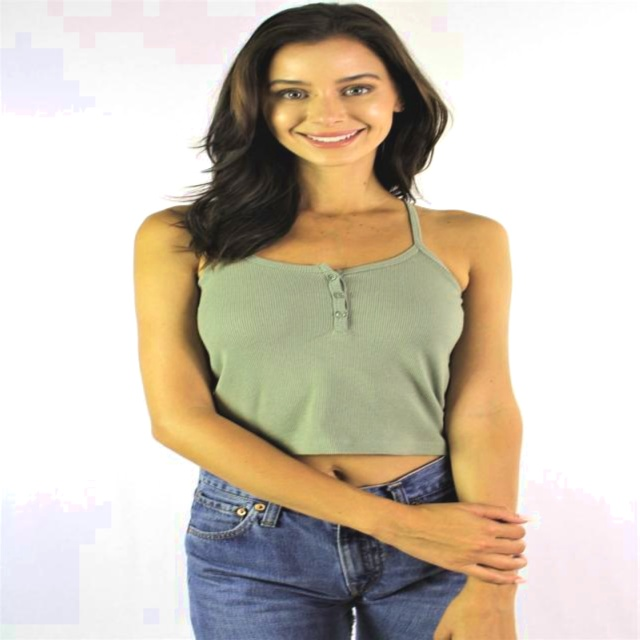Crop_Top: (190, 271, 466, 489)
Sleeveless: (440, 205, 519, 287), (129, 205, 207, 280)
low_neckline: (192, 200, 466, 453)
